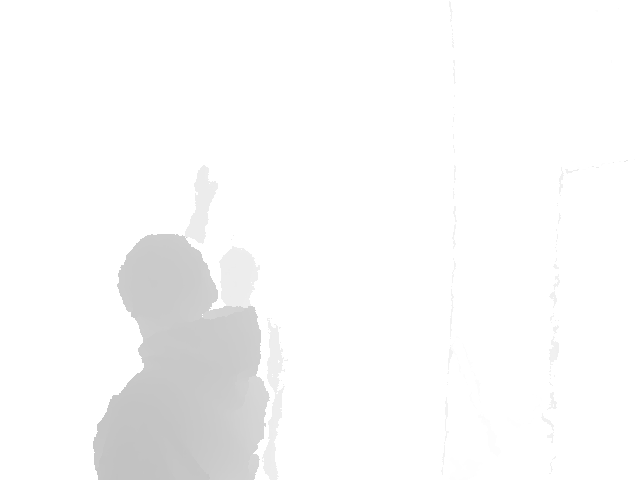hand: (192, 164, 219, 206)
head: (117, 233, 219, 334), (216, 245, 260, 318)
person: (92, 232, 272, 480), (183, 164, 284, 480)
